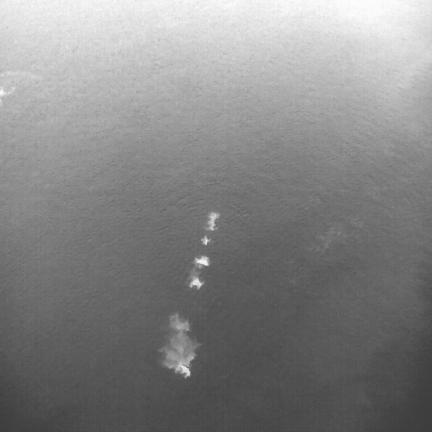flukeprints: (159, 313, 200, 378), (206, 212, 219, 230), (190, 277, 203, 289), (195, 256, 209, 267), (201, 235, 211, 245)
